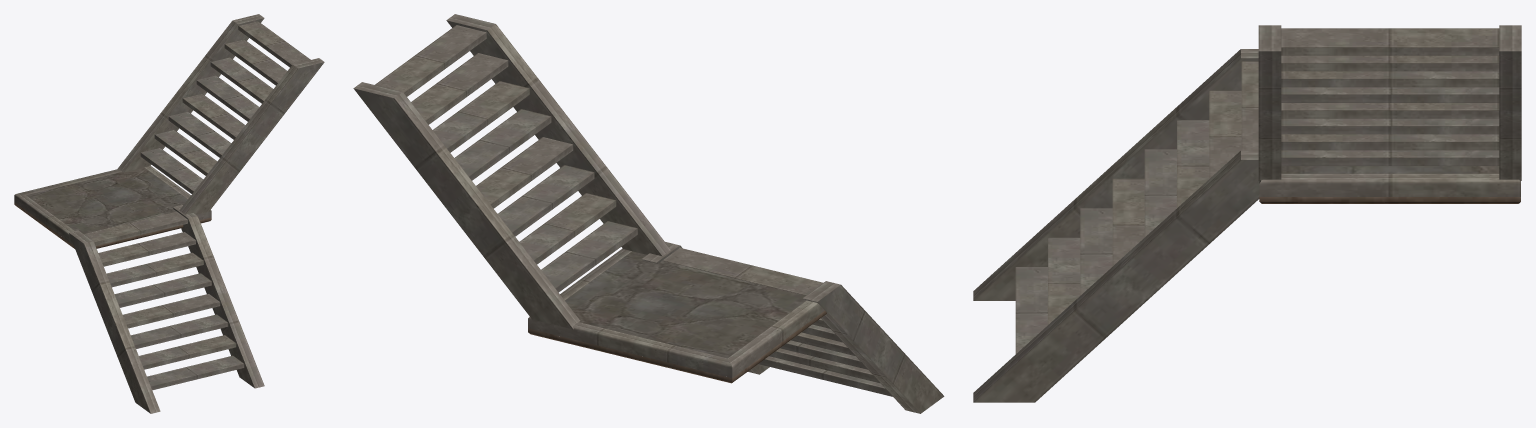
File: block.stair.lshape.crypt.glb
3 views of the same model, side by side, from view 1: azimuth 30°, elevation 25°; view 2: azimuth 150°, elevation 25°; view 3: azimuth 270°, elevation 25° (orthographic). The views are drawn at different scales.
Parts seen in each view (by area): view 1: block.stair.simple (×2), block.stair.landing.150x150; view 2: block.stair.simple (×2), block.stair.landing.150x150; view 3: block.stair.simple (×2), block.stair.landing.150x150.
Boxes of the visible parts, x1,y1,x2,y2 form: block.stair.simple (×2): (69,14,324,413); block.stair.landing.150x150: (14,165,211,248); block.stair.simple (×2): (353,14,944,413); block.stair.landing.150x150: (528,248,826,383); block.stair.simple (×2): (973,25,1521,402); block.stair.landing.150x150: (1259,166,1520,203).
Bounding box in the file's own units: 3.25 × 3.03 × 3.15.
2 materials, 2 textured.
